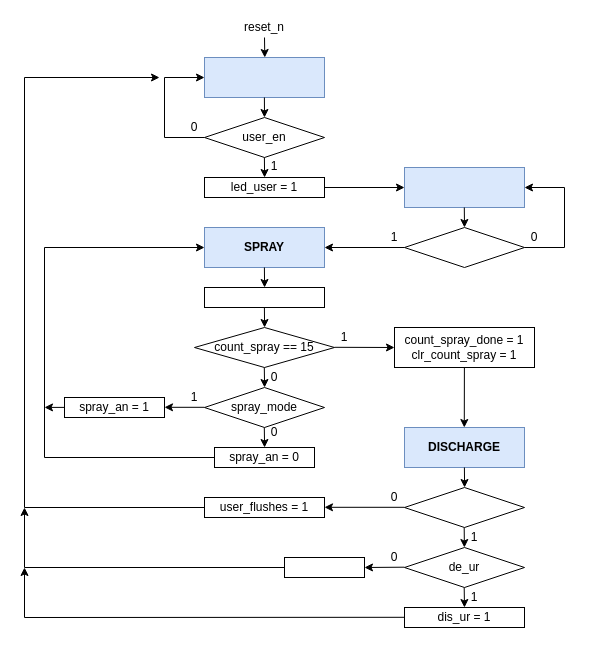
This 590x645 diagram has some shape labels left out. The centre of each missing label's shape, as x and y in pixels:
"auto_dis_en" goes at [464,507].
"dis_ur = 0" goes at [324,567].
"IDLE" goes at [264,77].
"inc_count_spray = 1" goes at [264,297].
"spray_en" goes at [464,247].
"USED" goes at [464,187].
